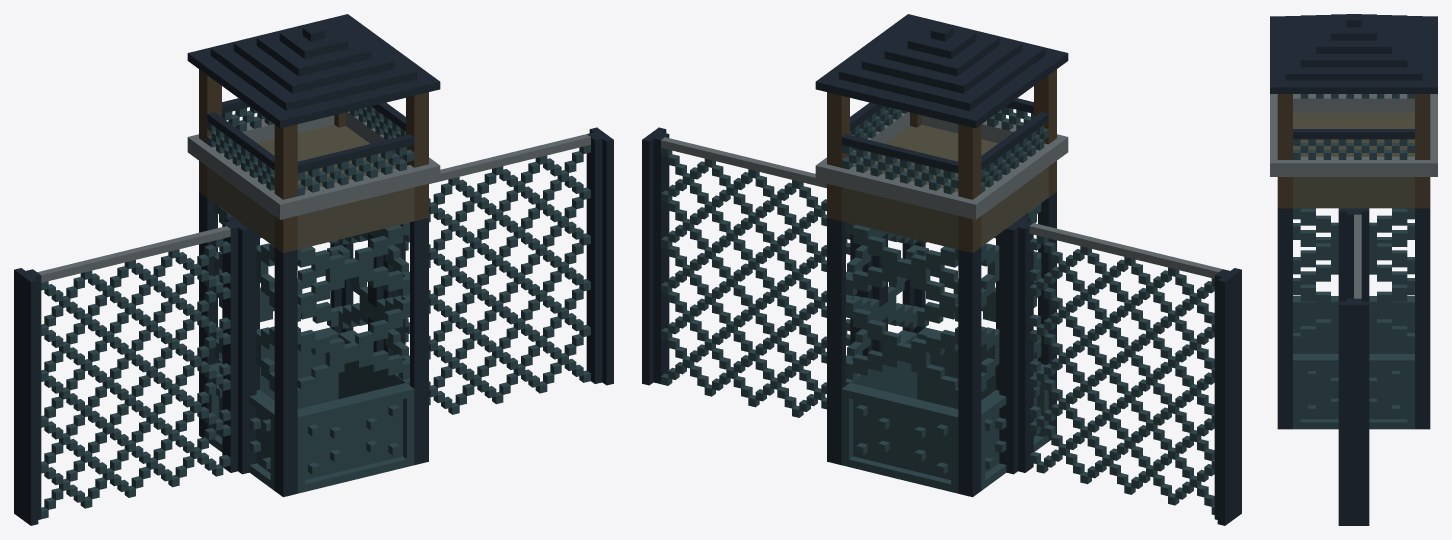
The model's file is wall3_straight.obj.
3 renders of one model, left to right at view 1: azimuth 30°, elevation 25°; view 2: azimuth 150°, elevation 25°; view 3: azimuth 270°, elevation 25°, orthographic. The views are drawn at different scales.
Bounding box in the file's own units: 8 × 5.5 × 2.2.
Materials: 1 (1 with a texture image).
